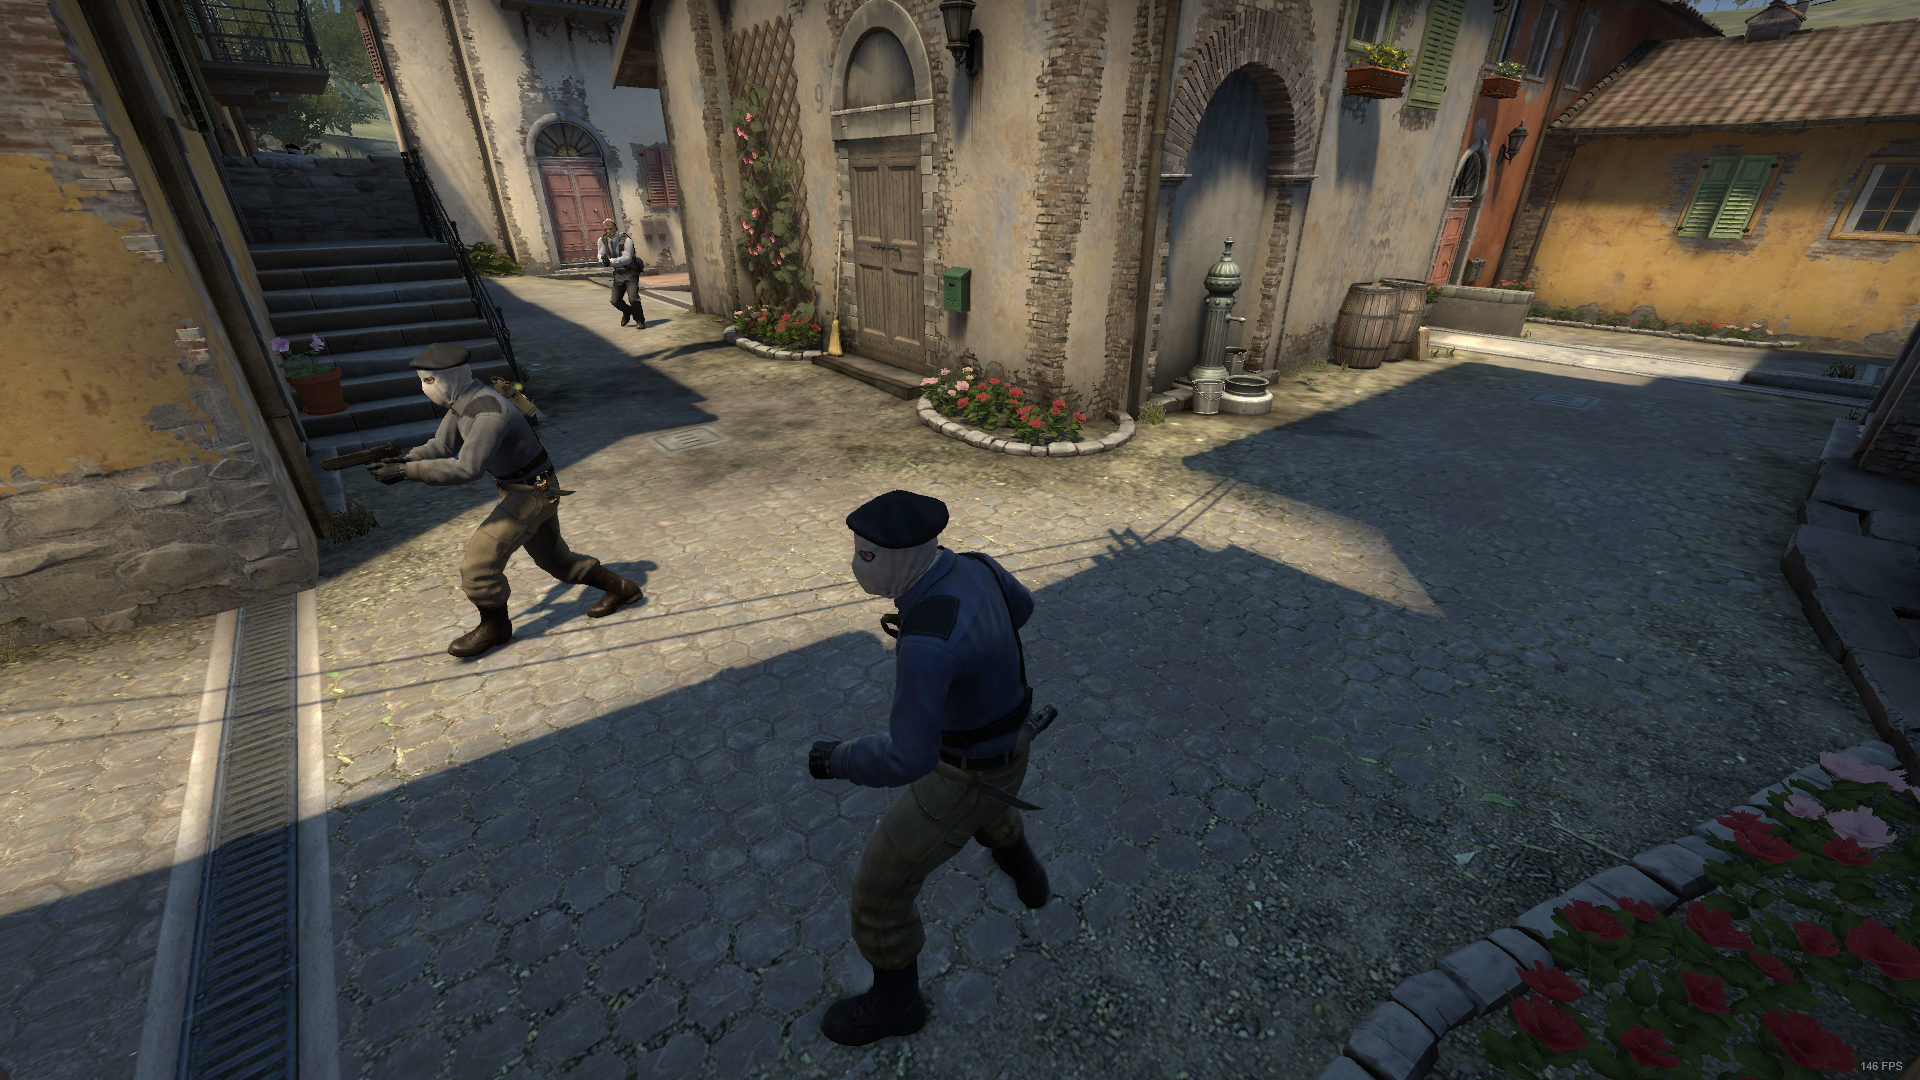t: (786, 483, 1059, 1058), (361, 338, 644, 667)
